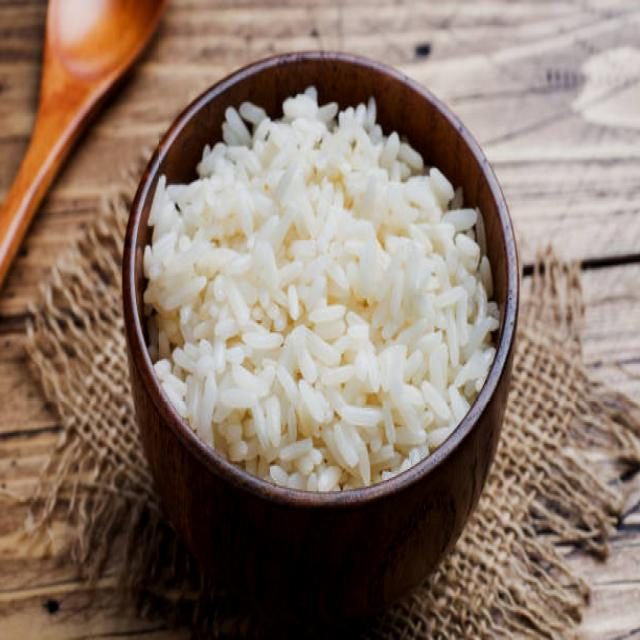Rice: (143, 86, 500, 494)
